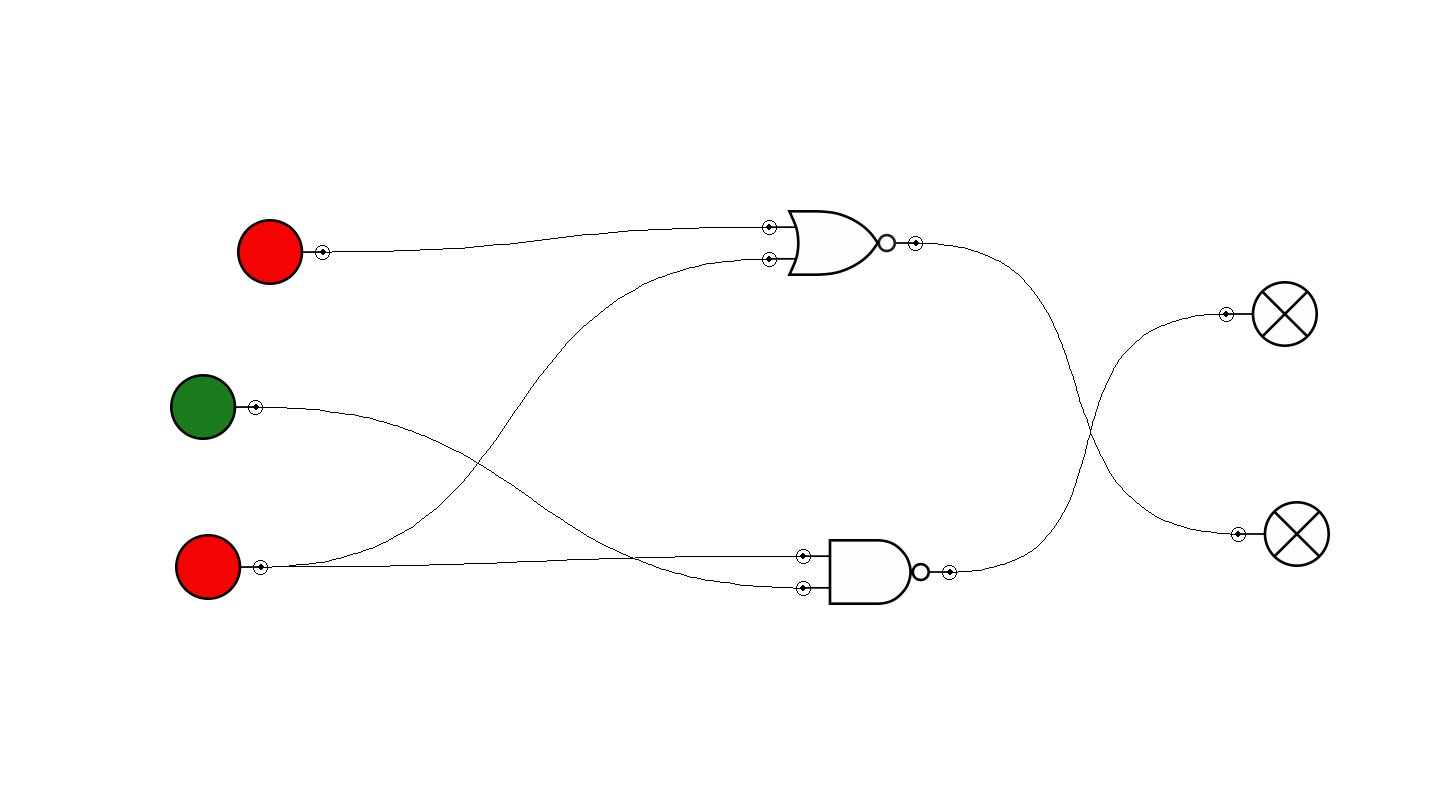bulb: (1219, 281, 1318, 347), (1231, 501, 1330, 567)
nand: (796, 539, 957, 605)
nor: (762, 210, 923, 276)
switch_False: (175, 534, 268, 600), (237, 219, 330, 285)
switch_True: (170, 374, 263, 440)
